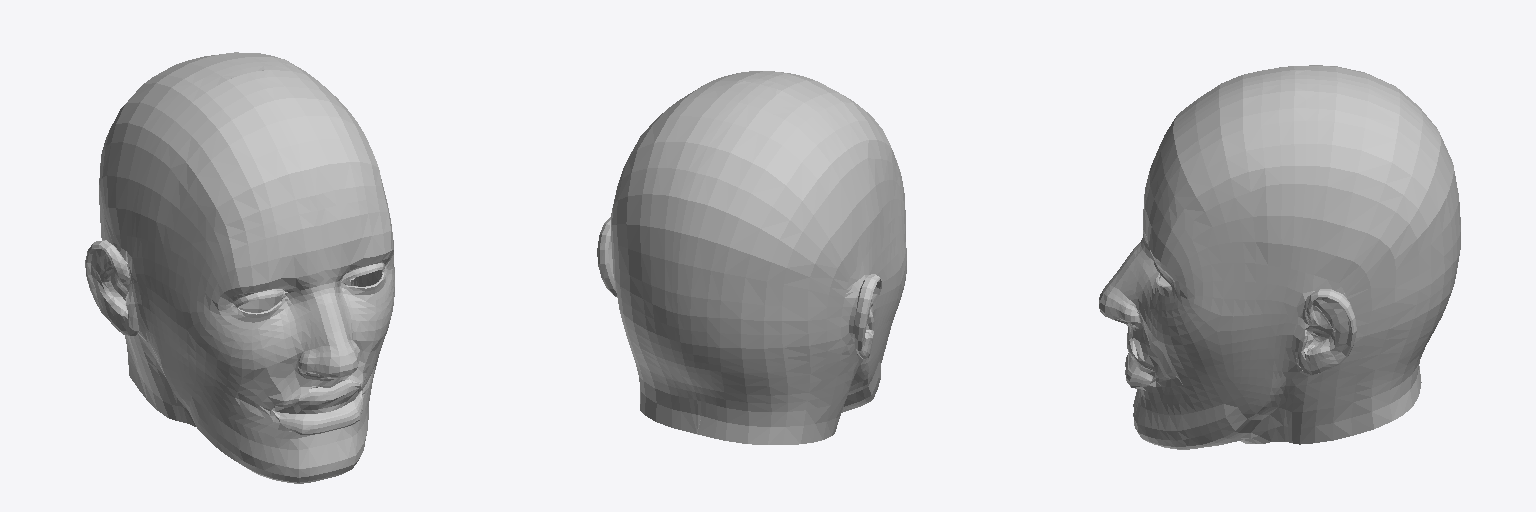
The model's file is eee.obj.
3 renders of one model, left to right at view 1: azimuth 30°, elevation 25°; view 2: azimuth 150°, elevation 25°; view 3: azimuth 270°, elevation 25°, orthographic.
Parts seen in each view (by area): view 1: Mesh_object0; view 2: Mesh_object0; view 3: Mesh_object0.
Part boxes in pixels (bbox=[...]): Mesh_object0: bbox=[85, 52, 394, 483]; Mesh_object0: bbox=[597, 71, 906, 444]; Mesh_object0: bbox=[1099, 65, 1460, 449].
Size of the model in its own units: 30.6 by 38.23 by 35.42.